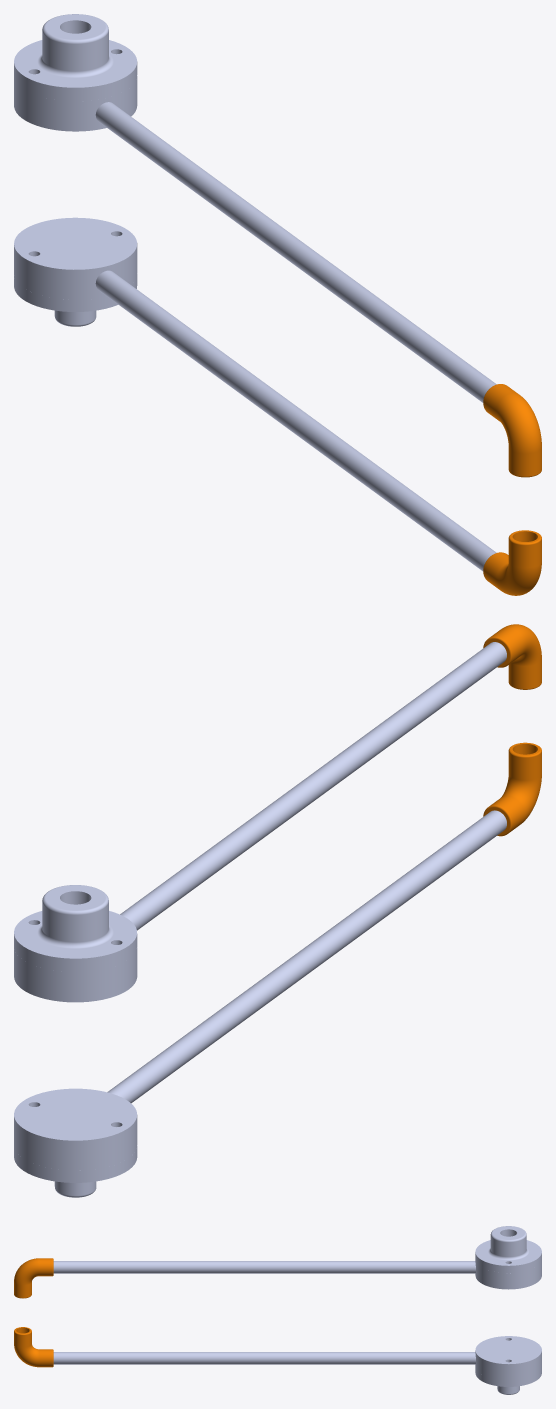
The model's file is LOWER_ARM2.glb.
The picture shows the model from 3 angles, top to bottom: view 1: azimuth 30°, elevation 25°; view 2: azimuth 150°, elevation 25°; view 3: azimuth 270°, elevation 25°; orthographic projection. The views are drawn at different scales.
Visible parts, largest first — view 1: LOWER_ARM2; view 2: LOWER_ARM2; view 3: LOWER_ARM2.
Part boxes in pixels (left/top/right/bottom): LOWER_ARM2: left=14, top=14, right=541, bottom=595; LOWER_ARM2: left=14, top=624, right=541, bottom=1197; LOWER_ARM2: left=14, top=1226, right=541, bottom=1394.
Size of the model in its own units: 0.074 by 0.1935 by 0.587.
